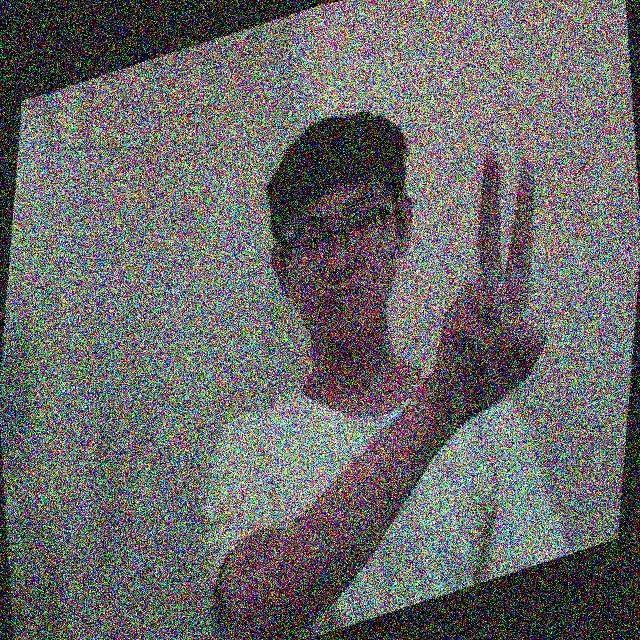V: (439, 148, 555, 404)
